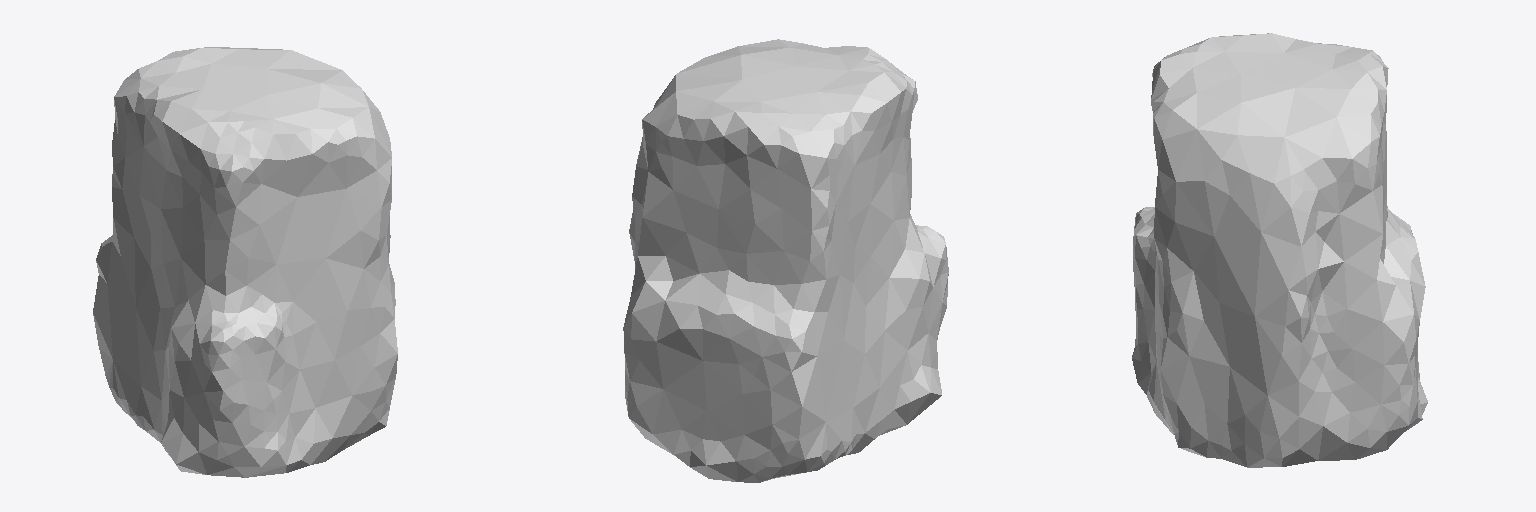
Rendered from Stone.obj.
3 views of the same model, side by side, from view 1: azimuth 30°, elevation 25°; view 2: azimuth 150°, elevation 25°; view 3: azimuth 270°, elevation 25° (orthographic).
Parts seen in each view (by area): view 1: RockSet06-B; view 2: RockSet06-B; view 3: RockSet06-B.
Part boxes in pixels (bbox=[...]): RockSet06-B: bbox=[93, 47, 397, 477]; RockSet06-B: bbox=[623, 39, 948, 482]; RockSet06-B: bbox=[1132, 33, 1427, 467].
Bounding box in the file's own units: 0.411 × 0.5502 × 0.4099.